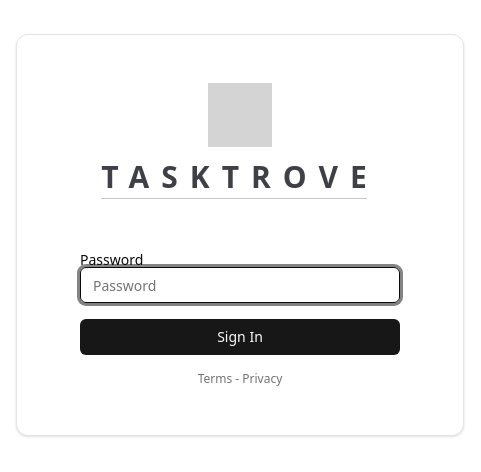
Scenario: LoginForm › Error Handling › removes error styling when field becomes valid
// First trigger error
Click the button "Sign In" at coordinates (240, 337), box [80, 319, 400, 355]
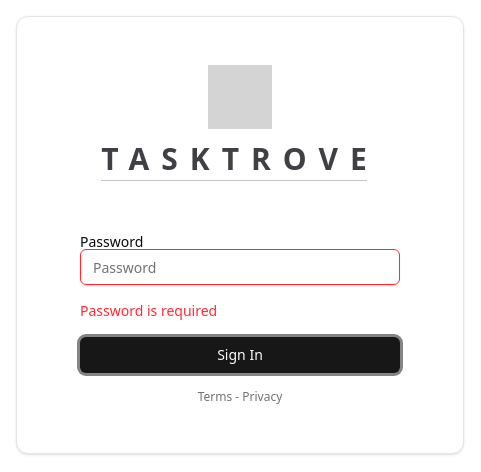
Expected: the password field with placeholder "Password" has class "border-red-500"
// Then fix the error
Type "password123" into the password field with placeholder "Password" at coordinates (240, 267), box [80, 249, 400, 285]
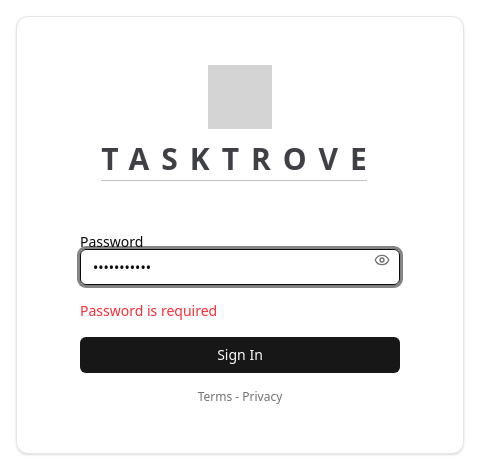
Click the button "Sign In" at coordinates (240, 355), box [80, 337, 400, 373]
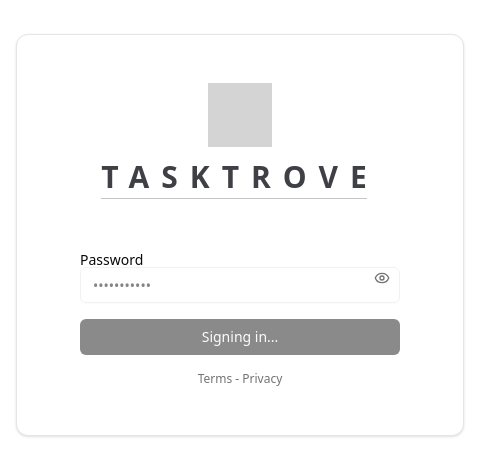
Expected: the password field with placeholder "Password" does not have class "border-red-500", [80, 267, 400, 303]
